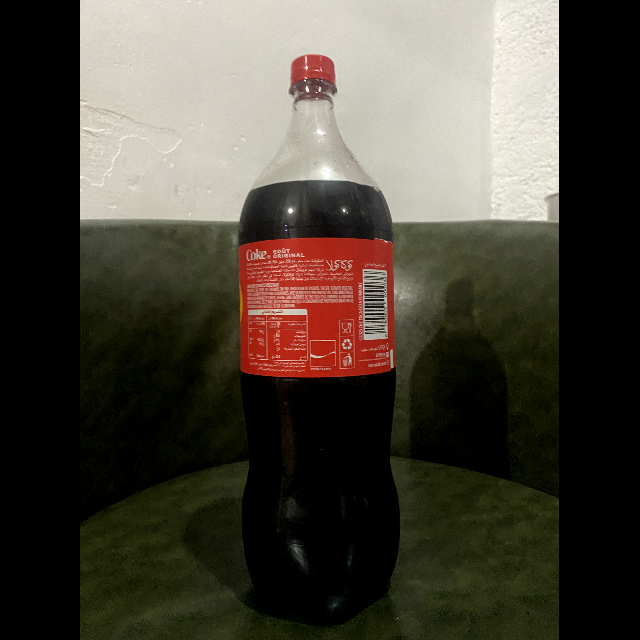coca-cola GB: (239, 56, 403, 620)
